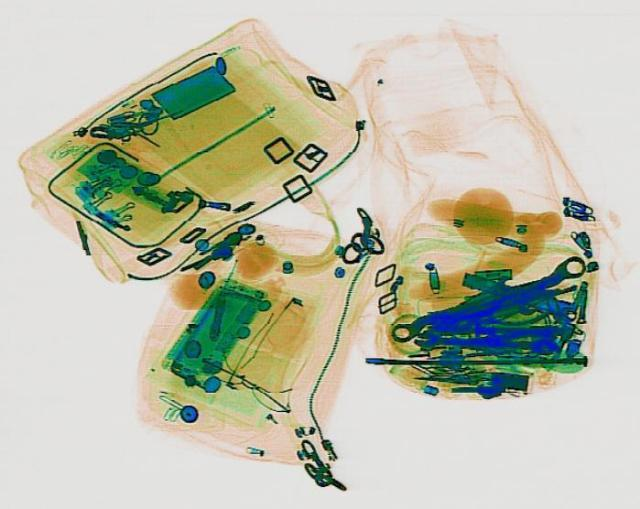Wrench: (386, 251, 590, 344), (412, 324, 556, 358)
